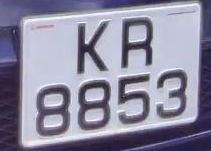3: (149, 65, 194, 127)
5: (112, 68, 155, 129)
8: (31, 77, 76, 140), (73, 74, 116, 131)
K: (71, 16, 121, 77)
R: (115, 12, 157, 71)
